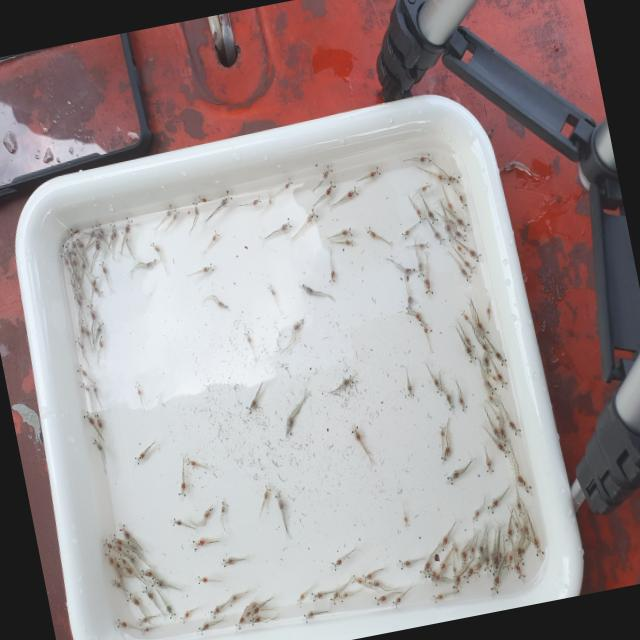babyshrimp: (470, 311, 489, 342), (493, 360, 509, 392), (218, 187, 236, 211), (514, 555, 528, 584), (530, 530, 545, 557), (282, 409, 296, 437), (488, 568, 502, 595), (493, 344, 508, 369), (434, 169, 453, 188), (304, 202, 319, 226), (454, 212, 471, 233), (518, 470, 532, 495), (125, 590, 144, 608), (480, 351, 492, 379), (425, 203, 439, 227), (497, 439, 512, 461), (462, 341, 477, 363), (396, 556, 413, 575), (413, 202, 427, 225), (516, 539, 526, 571), (446, 467, 461, 488), (457, 263, 472, 284), (444, 220, 457, 244), (489, 418, 502, 441), (86, 299, 98, 323), (486, 496, 501, 515), (430, 567, 444, 587), (505, 518, 515, 546), (324, 177, 338, 197), (329, 585, 342, 606), (292, 314, 307, 332), (119, 521, 133, 540), (247, 601, 261, 620), (467, 246, 481, 265), (279, 215, 293, 234), (419, 557, 431, 579), (423, 276, 435, 298), (505, 543, 514, 572), (509, 419, 522, 439), (191, 535, 206, 552), (417, 151, 434, 166), (345, 184, 360, 201), (301, 281, 316, 298), (485, 454, 497, 475), (462, 564, 475, 583), (484, 377, 497, 396), (451, 571, 462, 593), (473, 559, 484, 581), (275, 491, 287, 511), (310, 587, 325, 603), (430, 591, 446, 606), (445, 171, 461, 186), (242, 327, 254, 347), (350, 572, 364, 589), (163, 603, 176, 621), (349, 423, 362, 441), (234, 611, 245, 632), (437, 531, 448, 552), (463, 329, 474, 350), (322, 163, 334, 182), (340, 223, 355, 238), (111, 532, 125, 548), (142, 586, 156, 602), (103, 548, 116, 565), (330, 556, 343, 573), (76, 361, 89, 378), (391, 593, 402, 613), (476, 542, 487, 562), (438, 423, 449, 443), (500, 419, 508, 446), (433, 229, 445, 247), (492, 547, 499, 577), (433, 377, 444, 396), (116, 615, 129, 631), (248, 614, 264, 627), (303, 609, 316, 625), (454, 227, 467, 243), (282, 175, 295, 191), (178, 476, 187, 499), (198, 618, 210, 635), (62, 240, 72, 260), (60, 250, 71, 268), (74, 334, 85, 352), (111, 577, 125, 591), (372, 593, 386, 607), (201, 261, 215, 275), (124, 539, 139, 552), (179, 609, 192, 624), (209, 603, 222, 618), (337, 591, 352, 604), (463, 258, 476, 273), (366, 168, 381, 181), (134, 450, 147, 465), (446, 393, 456, 412), (124, 215, 133, 236), (151, 574, 164, 588), (221, 554, 234, 568), (83, 409, 96, 423), (263, 482, 273, 500), (416, 260, 425, 280), (402, 223, 412, 241), (246, 397, 256, 415), (146, 256, 158, 271), (124, 548, 135, 564), (484, 551, 492, 573), (92, 436, 103, 452), (267, 280, 276, 299), (186, 454, 199, 467), (366, 226, 379, 239), (121, 559, 133, 573), (515, 498, 523, 519), (342, 375, 356, 387), (421, 180, 432, 195), (94, 220, 105, 235), (461, 545, 468, 568), (253, 193, 263, 209), (94, 412, 104, 428), (140, 567, 153, 579), (404, 266, 416, 279), (141, 623, 152, 637), (227, 593, 238, 607), (480, 342, 490, 357), (210, 228, 220, 243), (96, 227, 102, 252), (96, 318, 106, 333), (406, 290, 413, 311), (296, 590, 305, 606), (441, 443, 449, 461), (460, 395, 468, 413), (406, 381, 414, 399), (414, 309, 423, 325), (458, 191, 466, 209), (218, 299, 229, 312), (204, 504, 214, 518), (328, 264, 335, 284), (166, 203, 176, 217), (109, 220, 117, 237), (420, 320, 429, 335), (99, 258, 108, 273), (89, 224, 98, 239), (485, 305, 492, 324), (137, 616, 148, 628), (102, 537, 113, 549), (149, 240, 161, 251), (69, 226, 81, 237), (362, 570, 372, 583), (368, 579, 381, 589), (488, 395, 498, 408), (515, 516, 523, 532), (73, 291, 82, 305), (134, 382, 143, 396), (345, 237, 355, 249), (192, 200, 200, 215), (403, 509, 410, 526), (197, 575, 210, 584), (456, 243, 465, 256), (91, 273, 100, 286), (221, 500, 229, 514), (460, 307, 468, 321), (113, 541, 124, 551), (173, 517, 185, 526), (420, 238, 429, 250), (85, 323, 92, 338), (79, 319, 86, 334), (472, 507, 480, 520), (118, 553, 127, 564), (80, 380, 89, 391), (77, 237, 85, 249), (98, 334, 105, 347), (197, 195, 207, 204), (95, 287, 104, 297), (173, 207, 180, 219), (267, 193, 273, 206), (90, 379, 96, 392), (81, 257, 86, 269), (188, 207, 194, 215)
